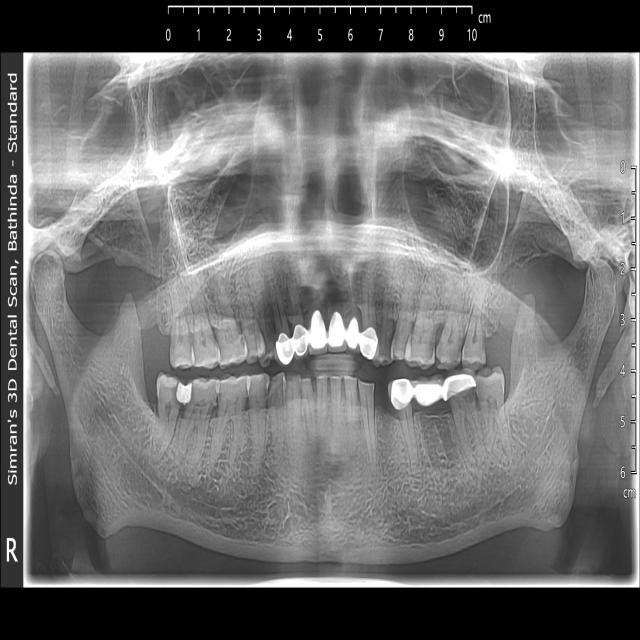Caries: (466, 390, 477, 409)
Crown: (391, 374, 478, 413), (274, 312, 329, 367), (328, 313, 378, 359)
Filling: (177, 383, 193, 402)
Mandibular Canal: (97, 394, 245, 519), (429, 412, 559, 536)
Missing teeth: (374, 381, 395, 419)
Periapical lesion: (305, 440, 343, 520)
